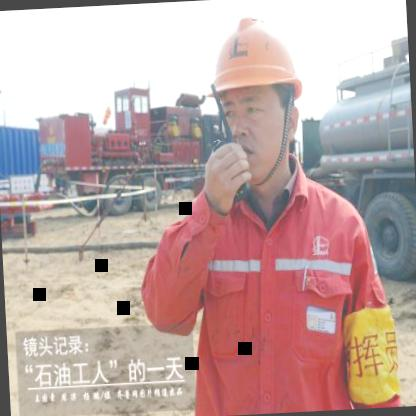helmet: (194, 5, 324, 188)
